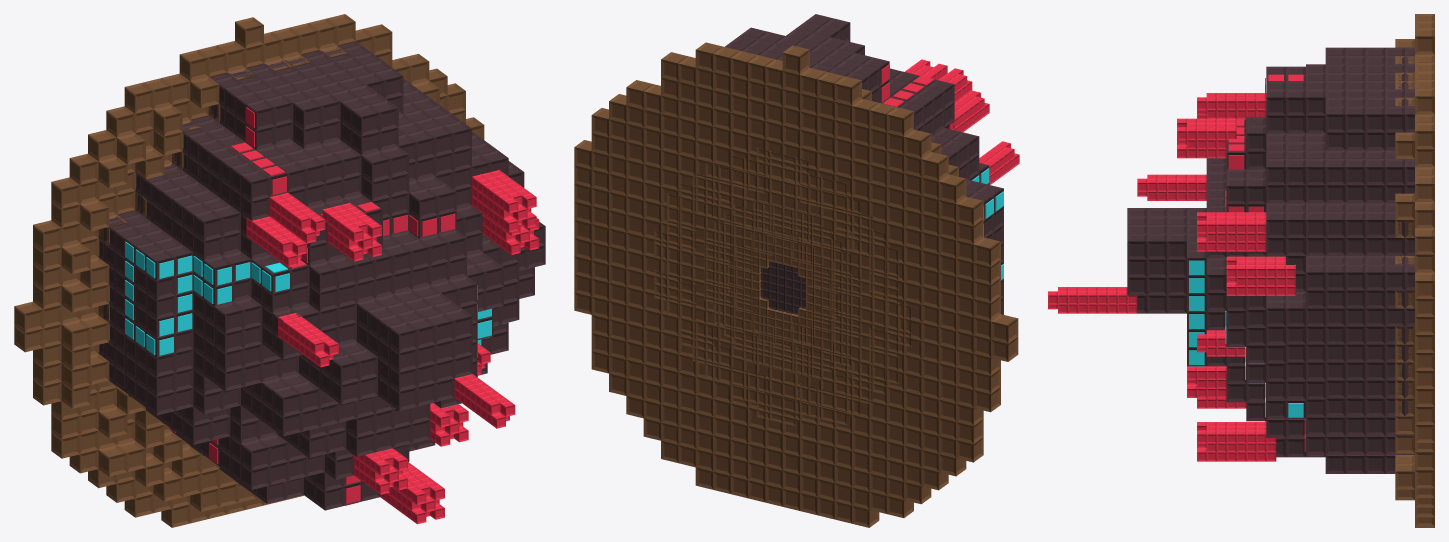
The model's file is Geodas_Zona4.fbx.
The picture shows the model from 3 angles, left to right: view 1: azimuth 30°, elevation 25°; view 2: azimuth 150°, elevation 25°; view 3: azimuth 270°, elevation 25°; orthographic projection. The views are drawn at different scales.
Visible parts, largest first — view 1: Roca.003, Base.003, Cristales.003, Grietas2.003, Grietas.003; view 2: Base.003, Base.002, Base.001, Roca.003, Base, Cristales.003, Roca, Grietas.003, Grietas2.003; view 3: Roca.003, Cristales.003, Base.003, Grietas2.003, Grietas.003.
Boxes of the visible parts, x1,y1,x2,y2 form: Roca.003: [98, 41, 545, 510]; Base.003: [14, 14, 484, 527]; Cristales.003: [246, 170, 539, 524]; Grietas2.003: [125, 241, 515, 408]; Grietas.003: [170, 107, 455, 505]; Base.003: [574, 42, 1018, 527]; Base.002: [654, 148, 911, 426]; Base.001: [704, 200, 860, 379]; Roca.003: [725, 14, 1003, 314]; Base: [728, 227, 837, 347]; Cristales.003: [905, 59, 1019, 184]; Roca: [761, 261, 805, 314]; Grietas.003: [881, 64, 934, 106]; Grietas2.003: [972, 168, 1003, 280]; Roca.003: [1127, 47, 1414, 473]; Cristales.003: [1048, 93, 1295, 461]; Base.003: [1395, 14, 1434, 527]; Grietas2.003: [1189, 260, 1303, 417]; Grietas.003: [1225, 74, 1394, 455].
Bounding box in the file's own units: 4.67 × 4.67 × 3.64.
